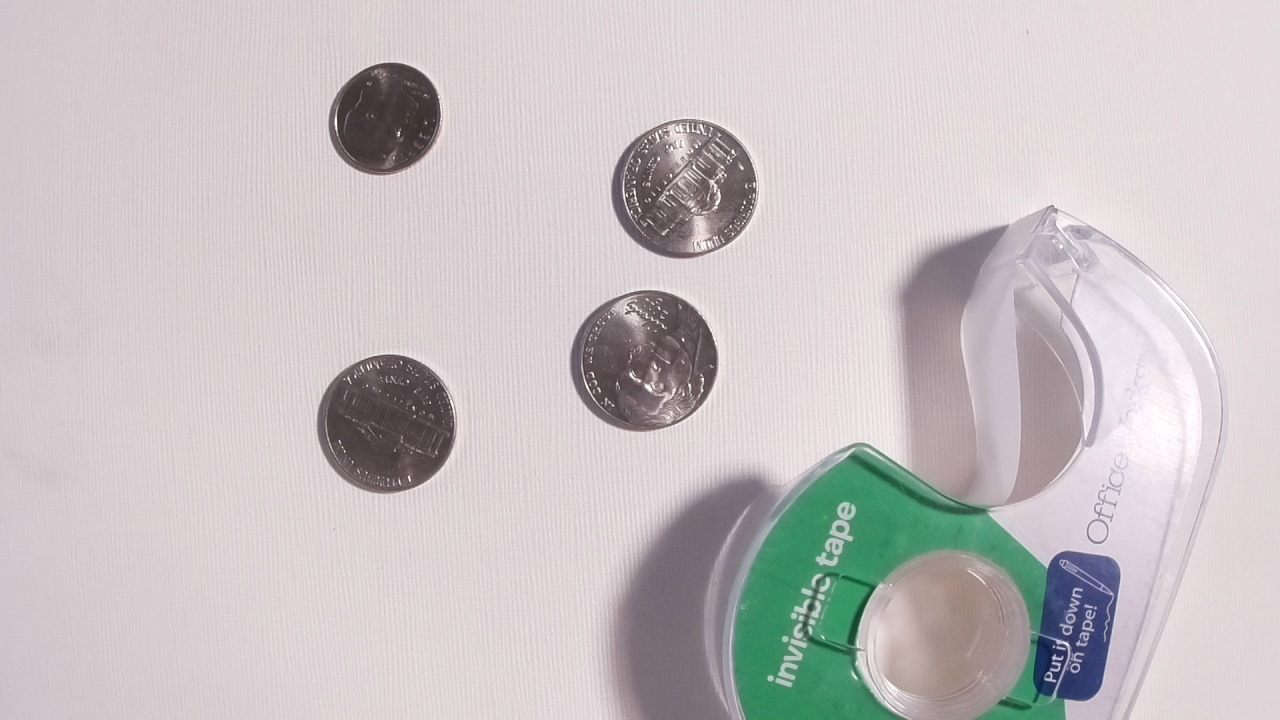dime: (329, 61, 442, 176)
nickel: (617, 117, 760, 261), (576, 290, 721, 431), (319, 354, 458, 495)
